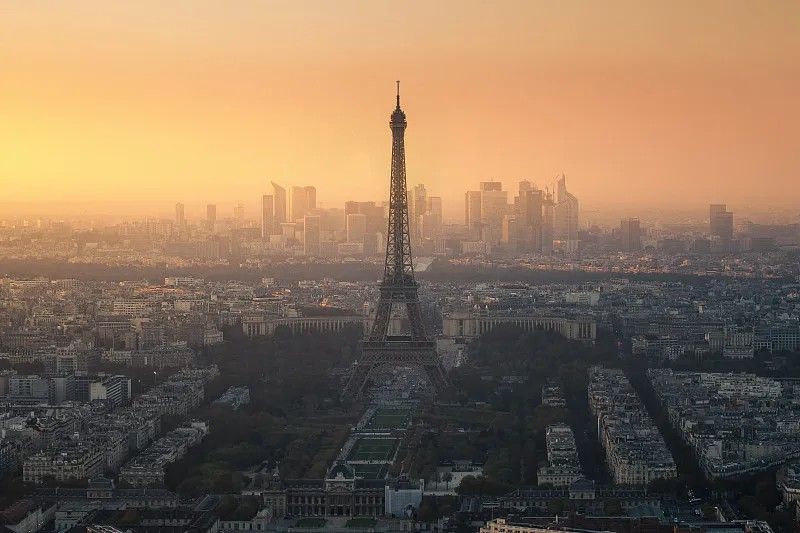Eiffel: (342, 81, 451, 404)
